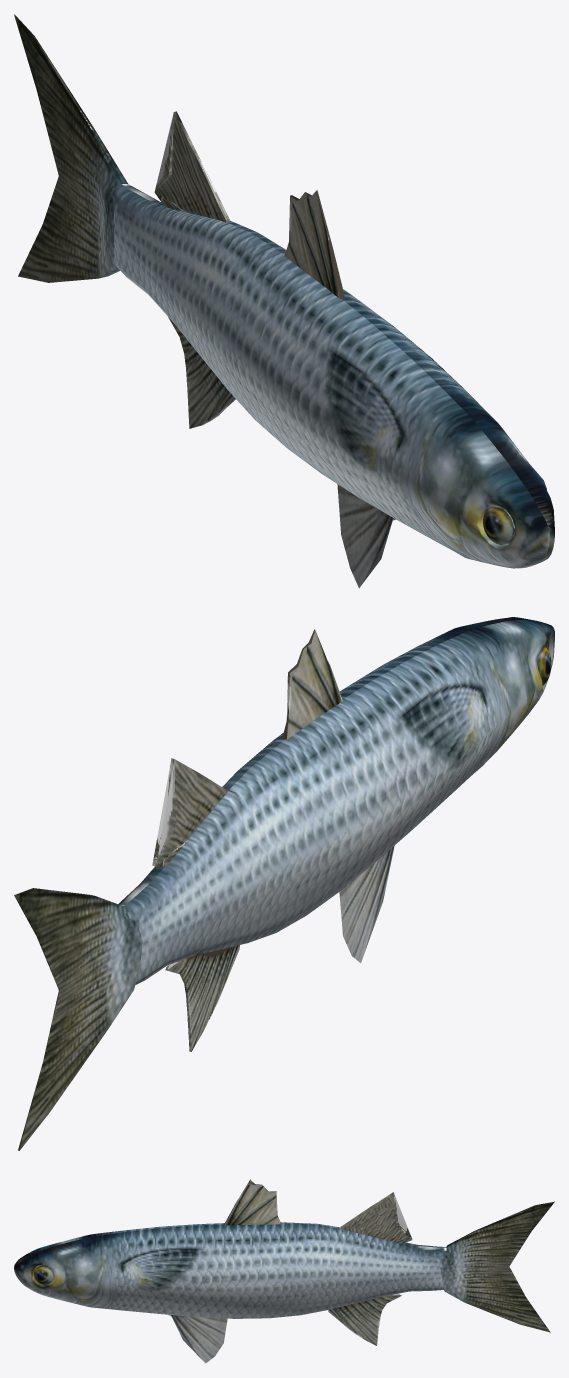
Rendered from mullet.glb.
The picture shows the model from 3 angles, top to bottom: view 1: azimuth 30°, elevation 25°; view 2: azimuth 150°, elevation 25°; view 3: azimuth 270°, elevation 25°; orthographic projection. The views are drawn at different scales.
Visible parts, largest first — view 1: fish_body_main, fish_tail_main, fish_fin_back, fish_fin_top, pPlane1, pCube1, pSphere1; view 2: fish_body_main, fish_tail_main, fish_fin_back, fish_fin_top, pCube1, pPlane1; view 3: fish_body_main, fish_tail_main, fish_fin_back, pPlane1, fish_fin_top, pCube1, pSphere1.
Part boxes in pixels (x1,y1,x2,y2): fish_body_main: [110, 184, 554, 568]; fish_tail_main: [14, 14, 127, 282]; fish_fin_back: [154, 111, 229, 222]; fish_fin_top: [284, 190, 345, 298]; pPlane1: [337, 484, 395, 588]; pCube1: [168, 317, 235, 428]; pSphere1: [483, 506, 514, 544]; fish_body_main: [118, 617, 554, 984]; fish_tail_main: [14, 888, 142, 1150]; fish_fin_back: [152, 758, 227, 866]; fish_fin_top: [282, 629, 342, 739]; pCube1: [165, 945, 239, 1051]; pPlane1: [339, 845, 394, 962]; fish_body_main: [14, 1222, 446, 1318]; fish_tail_main: [440, 1201, 554, 1332]; fish_fin_back: [340, 1192, 412, 1243]; pPlane1: [168, 1314, 227, 1363]; fish_fin_top: [224, 1179, 280, 1225]; pCube1: [328, 1293, 401, 1345]; pSphere1: [34, 1265, 53, 1284].
Bounding box in the file's own units: 4.32 × 9.11 × 24.17.
Materials: 1 (1 with a texture image).
